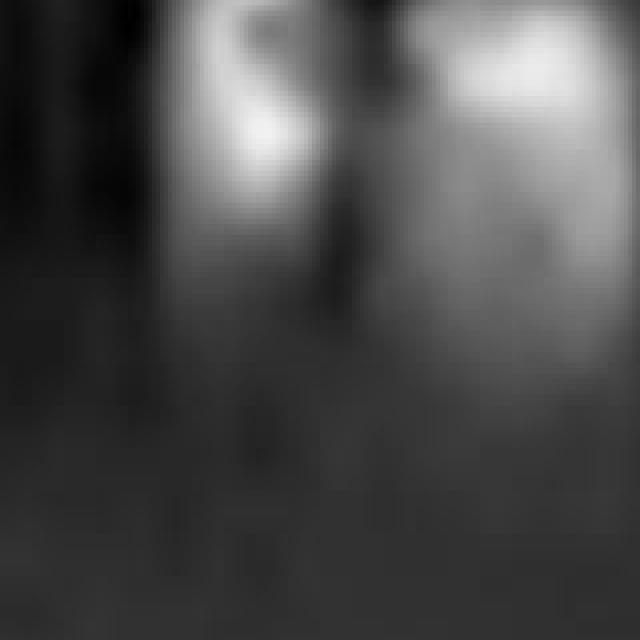person: (365, 1, 633, 470), (161, 1, 341, 369)
